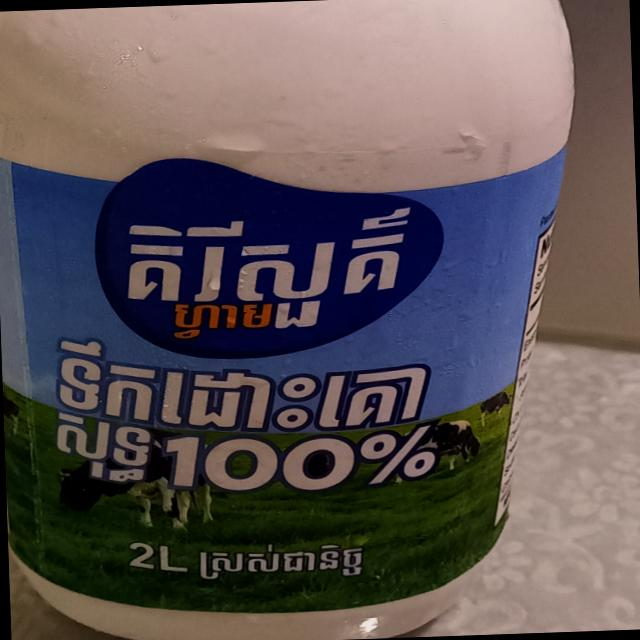534: (153, 428, 362, 496)
631: (122, 537, 158, 577)
Yolov11kh: (122, 201, 415, 345), (54, 329, 434, 435), (49, 408, 154, 488), (196, 537, 372, 583)
